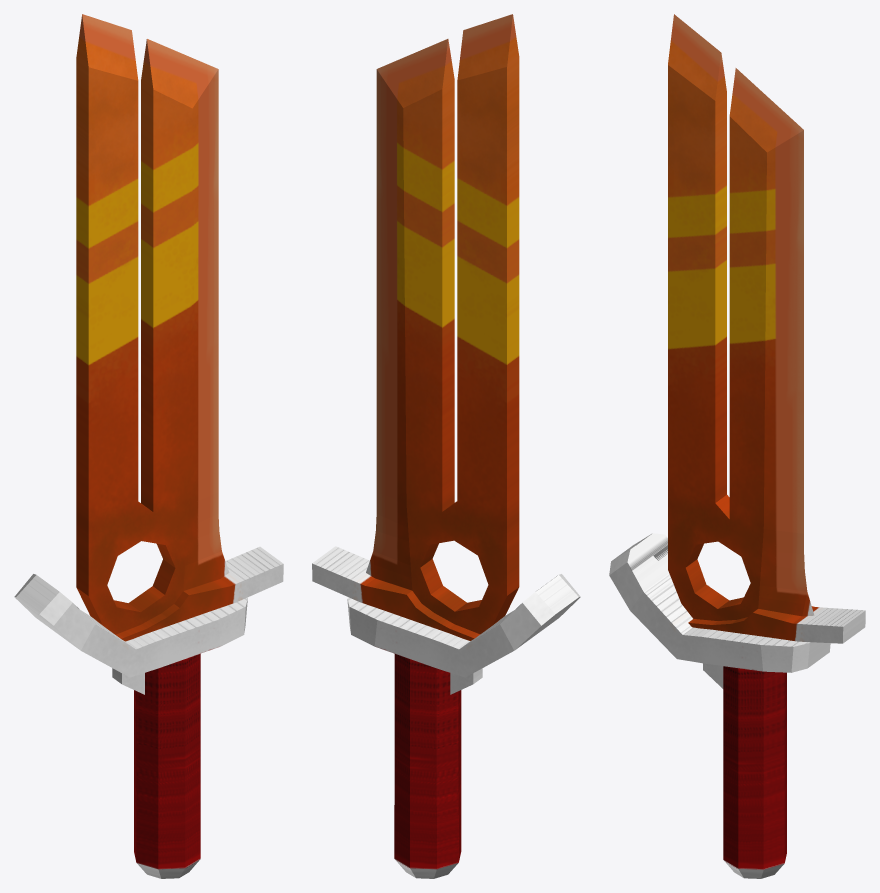
Rendered from Knife_Short.fbx.
The picture shows the model from 3 angles, left to right: view 1: azimuth 30°, elevation 25°; view 2: azimuth 150°, elevation 25°; view 3: azimuth 330°, elevation 25°; orthographic projection. The views are drawn at different scales.
Visible parts, largest first — view 1: Energy_Knife; view 2: Energy_Knife; view 3: Energy_Knife.
Boxes of the visible parts, <box> form: Energy_Knife: <box>14,14,283,878</box>; Energy_Knife: <box>312,14,580,878</box>; Energy_Knife: <box>609,14,865,878</box>.
Size of the model in its own units: 11.78 by 40.69 by 3.76.
Materials: 1 (1 with a texture image).
